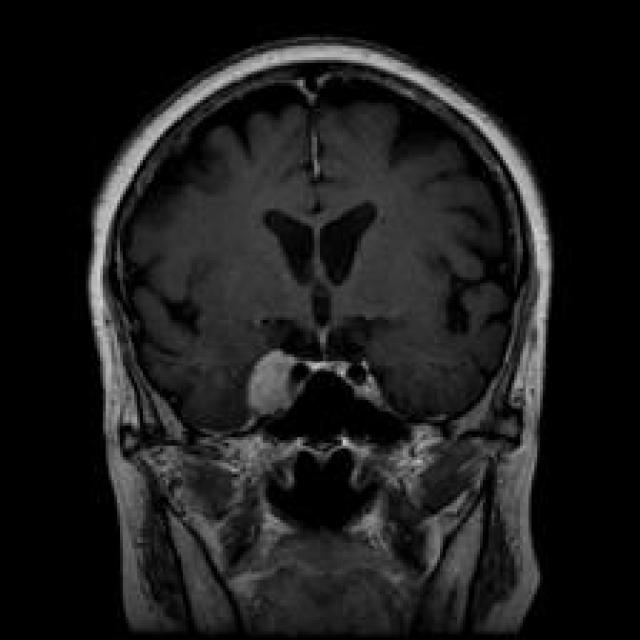meningioma_tumor: (240, 338, 328, 421)
